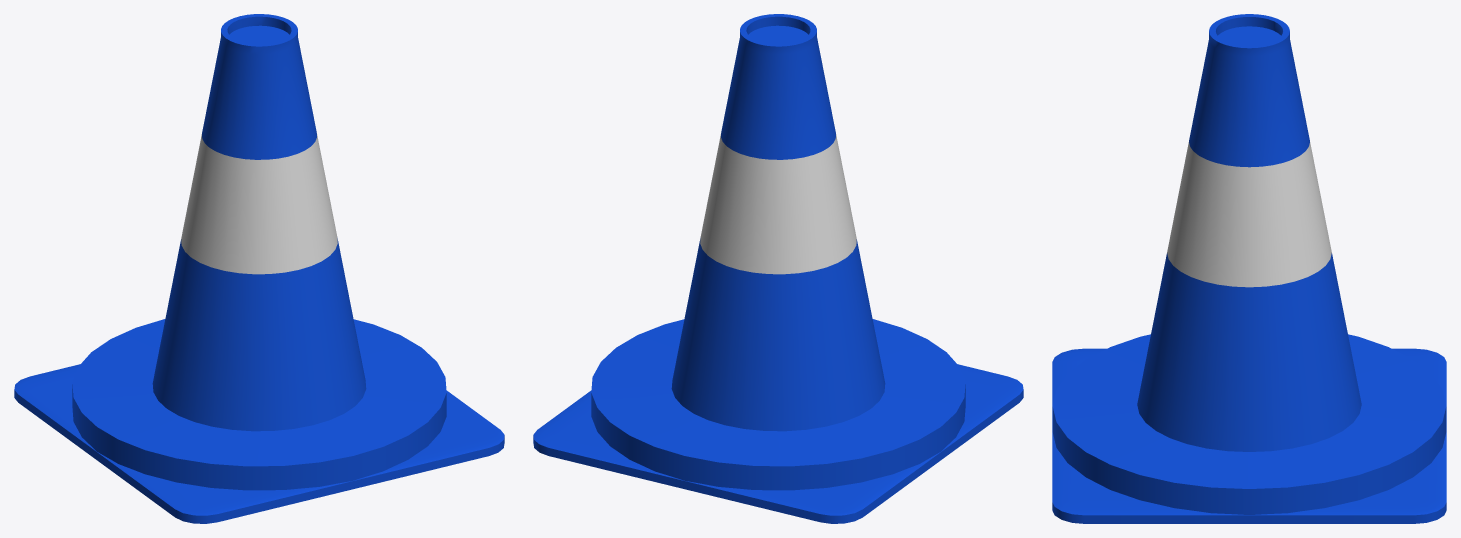
Rendered from blue_cone.glb.
3 renders of one model, left to right at view 1: azimuth 30°, elevation 25°; view 2: azimuth 150°, elevation 25°; view 3: azimuth 270°, elevation 25°, orthographic. The views are drawn at different scales.
Visible parts, largest first — view 1: Cylinder; view 2: Cylinder; view 3: Cylinder.
Part boxes in pixels (x1,y1,x2,y2): Cylinder: (14,14,504,523); Cylinder: (533,14,1023,523); Cylinder: (1052,14,1446,523).
Bounding box in the file's own units: 0.2285 × 0.2622 × 0.2285.
